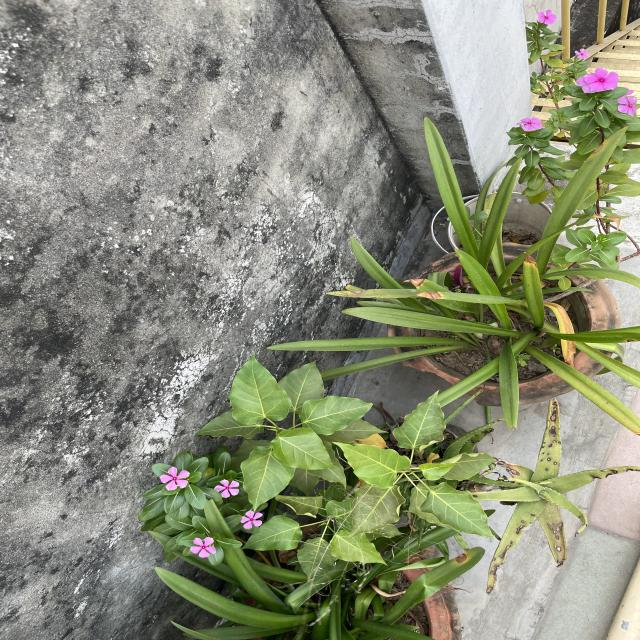Breeding Place: (413, 247, 606, 416), (432, 197, 558, 263)
